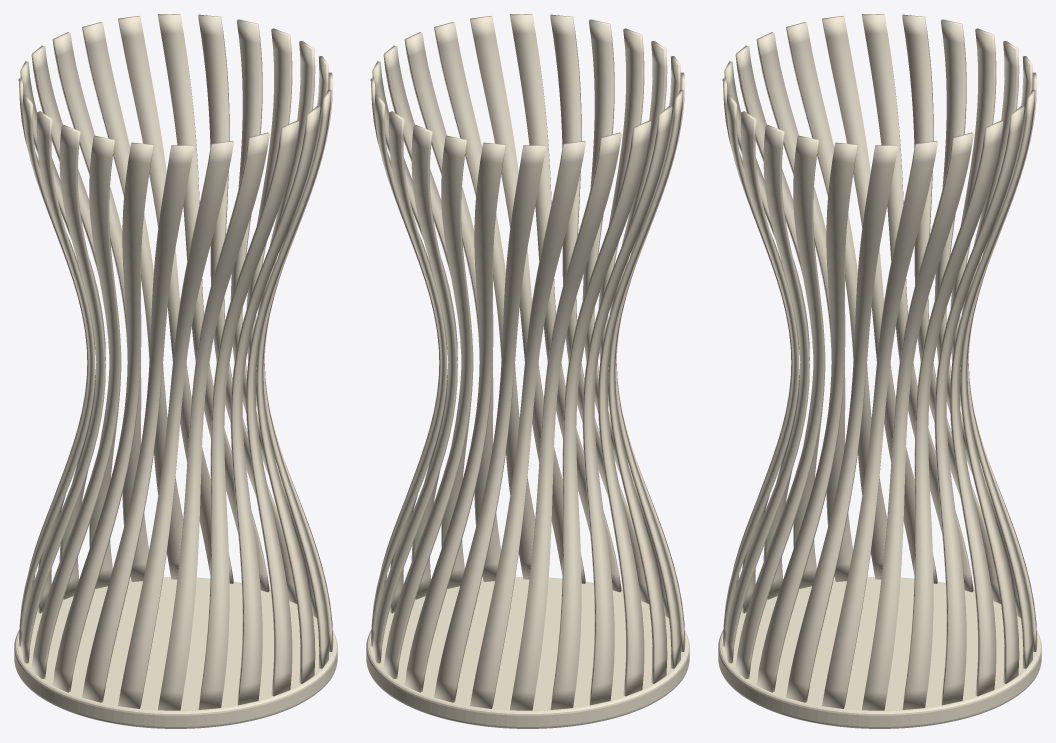
The picture shows the model from 3 angles, left to right: view 1: azimuth 30°, elevation 25°; view 2: azimuth 150°, elevation 25°; view 3: azimuth 270°, elevation 25°; orthographic projection.
Visible parts, largest first — view 1: Foot, Ribbon 17, Ribbon 18, Ribbon 16, Ribbon 19, Ribbon 15, Ribbon 20, Ribbon 14, Ribbon 21, Ribbon 13, Ribbon 5, Ribbon 6 (+13 smaller); view 2: Foot, Ribbon 9, Ribbon 10, Ribbon 8, Ribbon 11, Ribbon 7, Ribbon 12, Ribbon 6, Ribbon 13, Ribbon 5, Ribbon 21, Ribbon 22 (+13 smaller); view 3: Foot, Ribbon 1, Ribbon 2, Ribbon 24, Ribbon 3, Ribbon 23, Ribbon 4, Ribbon 22, Ribbon 5, Ribbon 21, Ribbon 13, Ribbon 14 (+13 smaller).
Part boxes in pixels (x1,y1,x2,y2): Foot: (14,577,337,728); Ribbon 17: (118,140,233,708); Ribbon 18: (158,132,269,710); Ribbon 16: (82,145,194,702); Ribbon 19: (198,120,299,709); Ribbon 15: (52,142,153,692); Ribbon 20: (230,106,320,705); Ribbon 14: (31,135,121,678); Ribbon 21: (246,89,331,696); Ribbon 13: (20,125,105,663); Ribbon 5: (118,16,233,583); Ribbon 6: (82,22,183,579); Foot: (366,577,689,728); Ribbon 9: (470,140,585,708); Ribbon 10: (510,132,621,710); Ribbon 8: (434,145,546,702); Ribbon 11: (550,120,651,709); Ribbon 7: (404,142,505,692); Ribbon 12: (582,106,672,705); Ribbon 6: (383,135,473,678); Ribbon 13: (598,89,683,696); Ribbon 5: (372,125,457,663); Ribbon 21: (470,16,585,583); Ribbon 22: (434,22,535,579); Foot: (718,577,1041,728); Ribbon 1: (822,140,937,708); Ribbon 2: (862,132,973,710); Ribbon 24: (786,145,898,702); Ribbon 3: (902,120,1003,709); Ribbon 23: (756,142,857,692); Ribbon 4: (934,106,1024,705); Ribbon 22: (735,135,825,678); Ribbon 5: (950,89,1035,696); Ribbon 21: (724,125,809,663); Ribbon 13: (822,16,937,583); Ribbon 14: (786,22,887,579).
Size of the model in its own units: 135 by 268 by 135.
